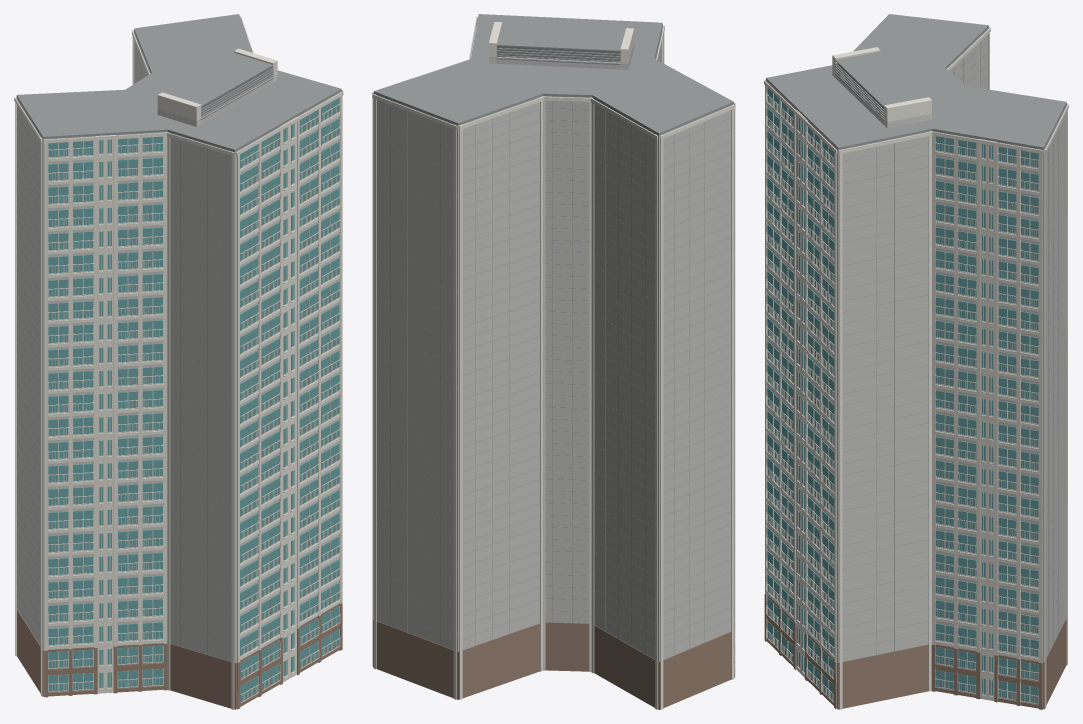
The model's file is bespoke-jamsil-els-122.glb.
3 renders of one model, left to right at view 1: azimuth 30°, elevation 25°; view 2: azimuth 150°, elevation 25°; view 3: azimuth 270°, elevation 25°, orthographic. The views are drawn at different scales.
Visible parts, largest first — view 1: Els122_editable_Els122_turquoise_balcony_glazing, Els122_editable_Els122_light_grey_solid_wall, Els122_white_exact_chunk_0, Els122_editable_Els122_modest_grey_flat_roof_caps, Els122_white_exact_chunk_1, Els122_white_exact_chunk_2, Els122_editable_Els122_muted_ground_wall, Els122_white_exact_chunk_3; view 2: Els122_editable_Els122_light_grey_solid_wall, Els122_editable_Els122_modest_grey_flat_roof_caps, Els122_editable_Els122_muted_ground_wall, Els122_white_exact_chunk_3, Els122_white_exact_chunk_0, Els122_editable_Els122_narrow_charcoal_service_strips; view 3: Els122_editable_Els122_light_grey_solid_wall, Els122_editable_Els122_turquoise_balcony_glazing, Els122_white_exact_chunk_2, Els122_editable_Els122_modest_grey_flat_roof_caps, Els122_white_exact_chunk_1, Els122_white_exact_chunk_3, Els122_editable_Els122_muted_ground_wall, Els122_white_exact_chunk_0.
Part boxes in pixels (left/top/right/bottom): Els122_editable_Els122_turquoise_balcony_glazing: left=48, top=98, right=339, bottom=701; Els122_editable_Els122_light_grey_solid_wall: left=16, top=31, right=341, bottom=670; Els122_white_exact_chunk_0: left=14, top=96, right=297, bottom=709; Els122_editable_Els122_modest_grey_flat_roof_caps: left=16, top=14, right=341, bottom=661; Els122_white_exact_chunk_1: left=237, top=109, right=340, bottom=709; Els122_white_exact_chunk_2: left=236, top=44, right=343, bottom=662; Els122_editable_Els122_muted_ground_wall: left=17, top=603, right=342, bottom=709; Els122_white_exact_chunk_3: left=132, top=16, right=277, bottom=126; Els122_editable_Els122_light_grey_solid_wall: left=374, top=26, right=733, bottom=661; Els122_editable_Els122_modest_grey_flat_roof_caps: left=373, top=14, right=733, bottom=659; Els122_editable_Els122_muted_ground_wall: left=373, top=619, right=735, bottom=709; Els122_white_exact_chunk_3: left=372, top=22, right=634, bottom=699; Els122_white_exact_chunk_0: left=591, top=25, right=735, bottom=709; Els122_editable_Els122_narrow_charcoal_service_strips: left=497, top=46, right=620, bottom=60; Els122_editable_Els122_light_grey_solid_wall: left=766, top=28, right=1066, bottom=677; Els122_editable_Els122_turquoise_balcony_glazing: left=767, top=87, right=1038, bottom=703; Els122_white_exact_chunk_2: left=764, top=80, right=1038, bottom=709; Els122_editable_Els122_modest_grey_flat_roof_caps: left=766, top=14, right=1066, bottom=662; Els122_white_exact_chunk_1: left=765, top=81, right=834, bottom=702; Els122_white_exact_chunk_3: left=832, top=47, right=1068, bottom=709; Els122_editable_Els122_muted_ground_wall: left=764, top=594, right=1066, bottom=709; Els122_white_exact_chunk_0: left=765, top=16, right=990, bottom=677.
Size of the model in its own units: 32.77 by 65.55 by 31.15.
